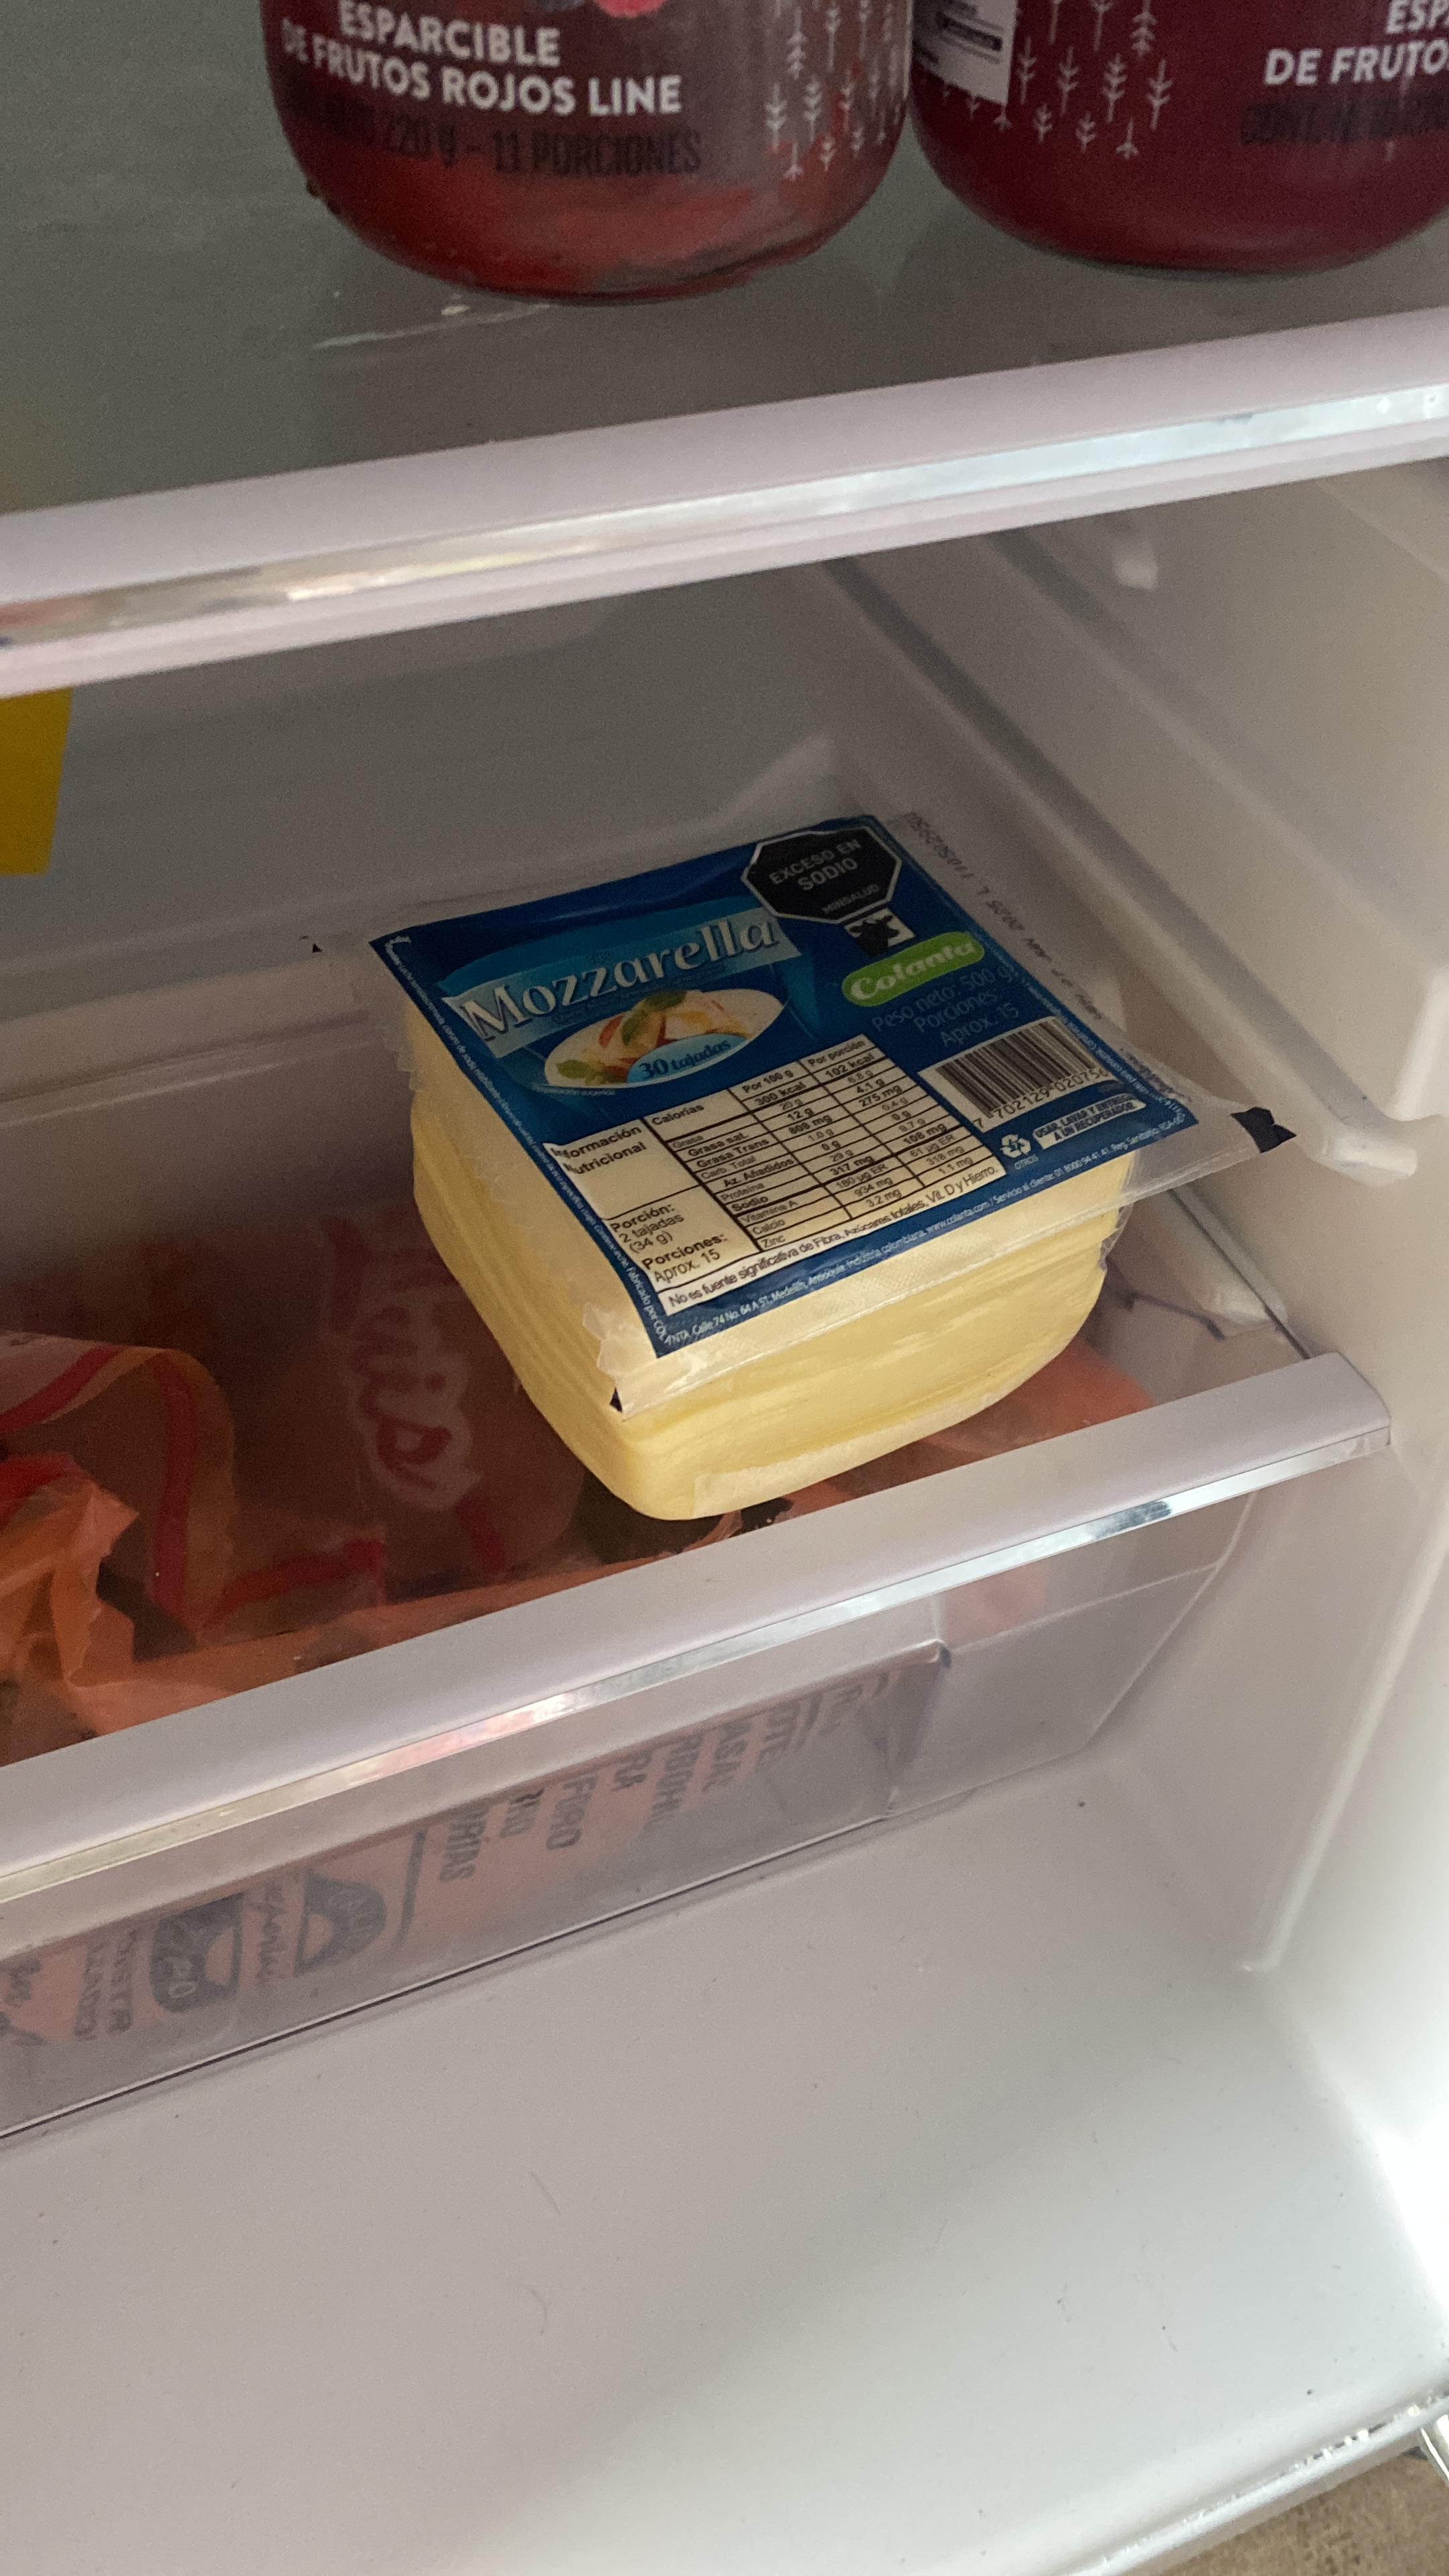Queso Mozzarella: (350, 780, 1279, 1523)
